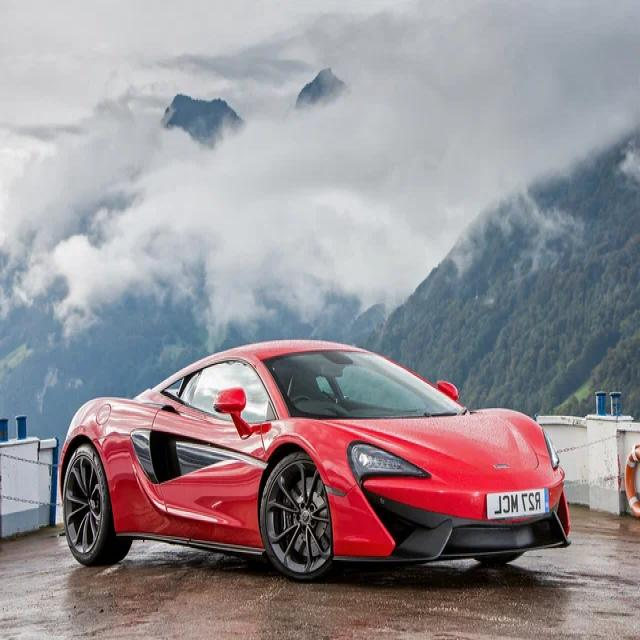car: (58, 338, 572, 582)
